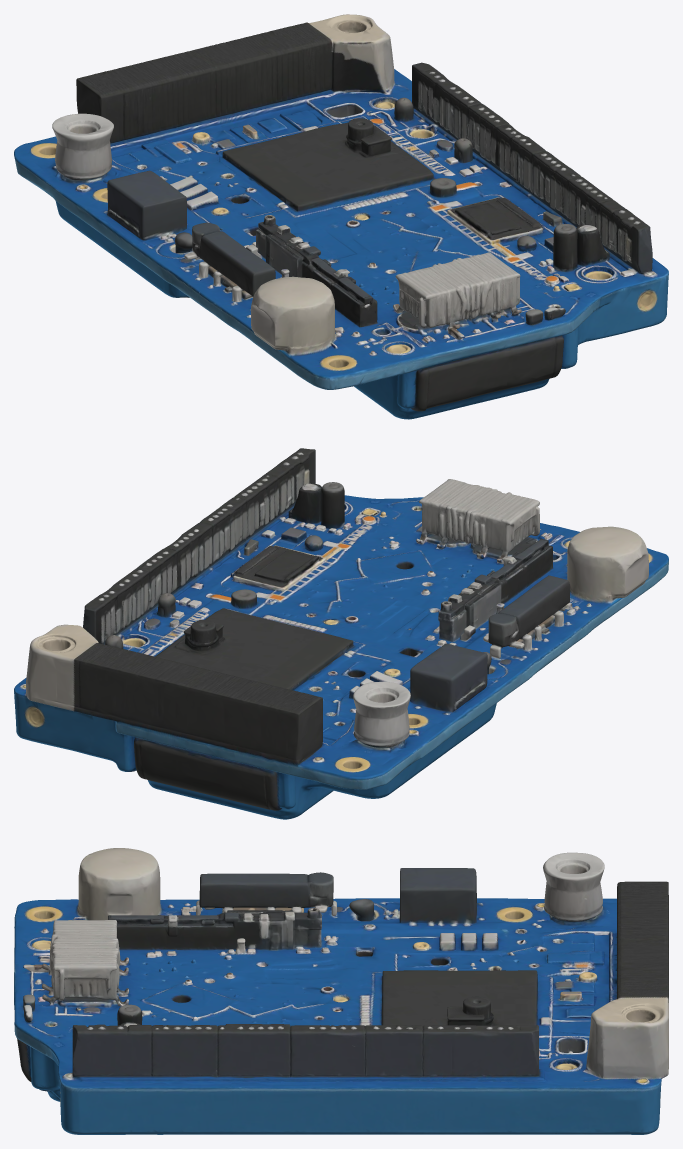
File: arduino.glb
3 views of the same model, one above another, from view 1: azimuth 30°, elevation 25°; view 2: azimuth 150°, elevation 25°; view 3: azimuth 270°, elevation 25° (orthographic). The views are drawn at different scales.
Visible parts, largest first — view 1: tripo_node_418a250a-a276-4705-b2d5-2e753adae282; view 2: tripo_node_418a250a-a276-4705-b2d5-2e753adae282; view 3: tripo_node_418a250a-a276-4705-b2d5-2e753adae282.
Part boxes in pixels (box(x1,y1,x2,y2)): tripo_node_418a250a-a276-4705-b2d5-2e753adae282: box(14, 14, 668, 419); tripo_node_418a250a-a276-4705-b2d5-2e753adae282: box(14, 448, 668, 819); tripo_node_418a250a-a276-4705-b2d5-2e753adae282: box(14, 848, 668, 1134).
Size of the model in its own units: 0.7032 by 0.2281 by 1.
Materials: 1 (1 with a texture image).
